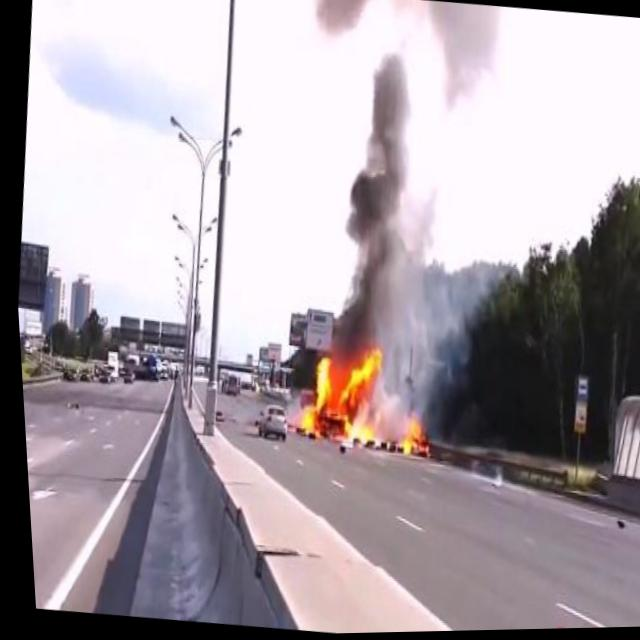fire: (287, 335, 392, 453), (389, 408, 432, 464)
